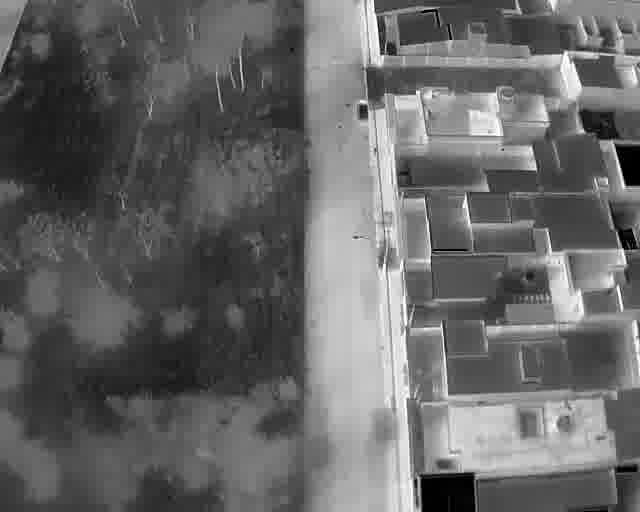car: (357, 100, 369, 122)
